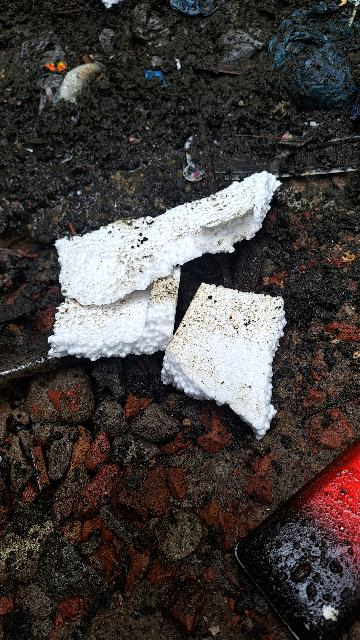cocksheet: (49, 165, 300, 457)
